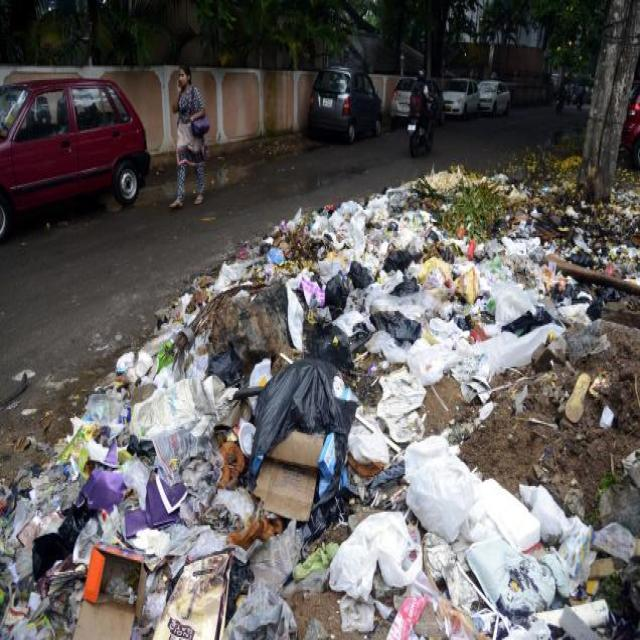garbage: (2, 222, 624, 640)
